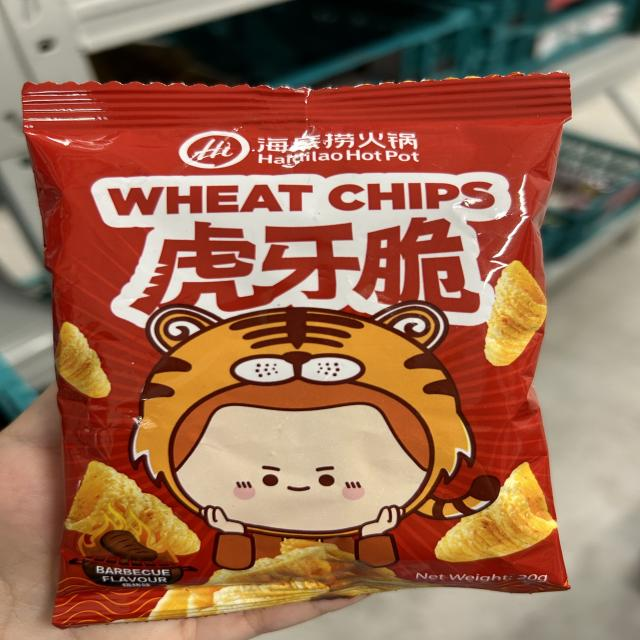object_name: (36, 88, 546, 585)
